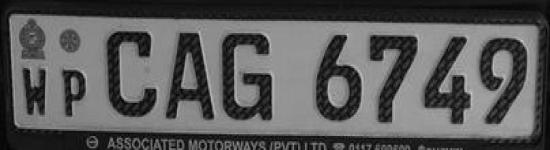4: (422, 29, 474, 133)
6: (312, 26, 367, 129)
7: (368, 29, 422, 131)
9: (474, 28, 532, 130)
A: (163, 25, 218, 129)
C: (100, 25, 163, 121)
G: (218, 26, 284, 133)
P: (58, 63, 91, 123)
W: (19, 62, 56, 121)
